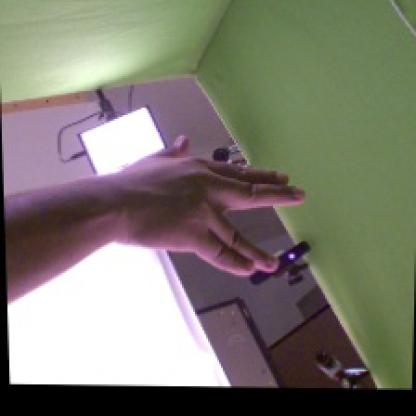Hand: (108, 136, 306, 276)
